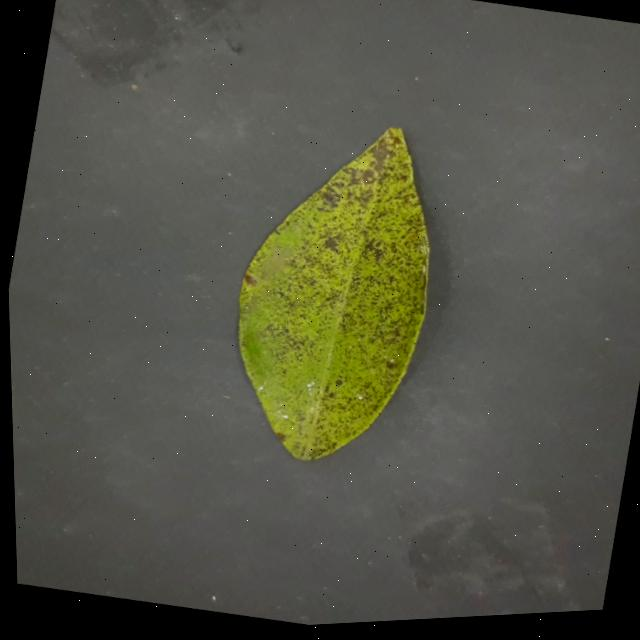greasy_spot: (239, 127, 429, 459)
